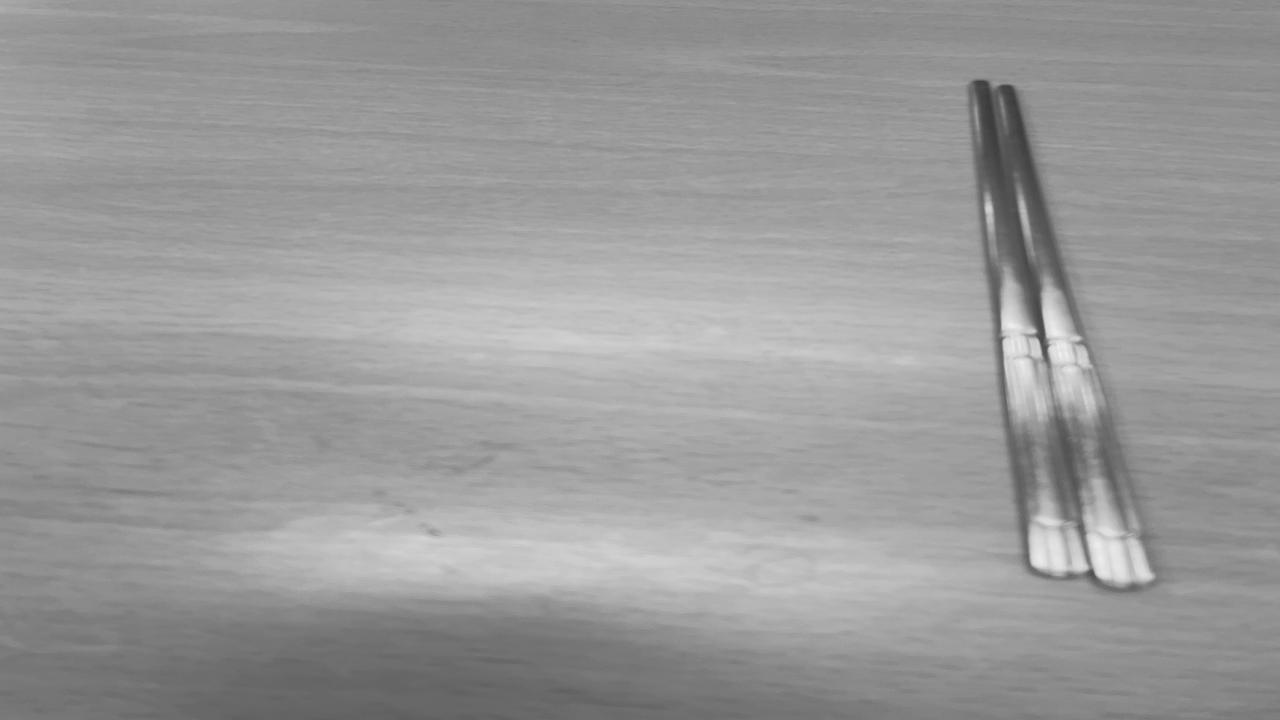chopstick: (968, 82, 1154, 586)
